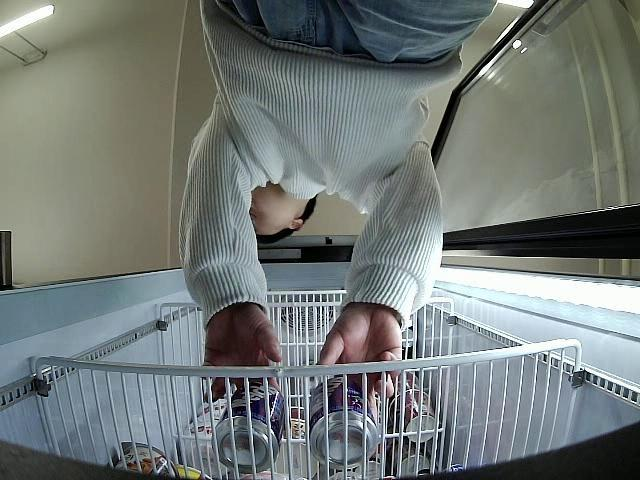14_welchsGrape: (308, 379, 377, 472), (210, 386, 284, 471)
